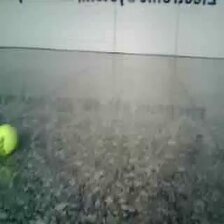tennis: (1, 124, 18, 157)
